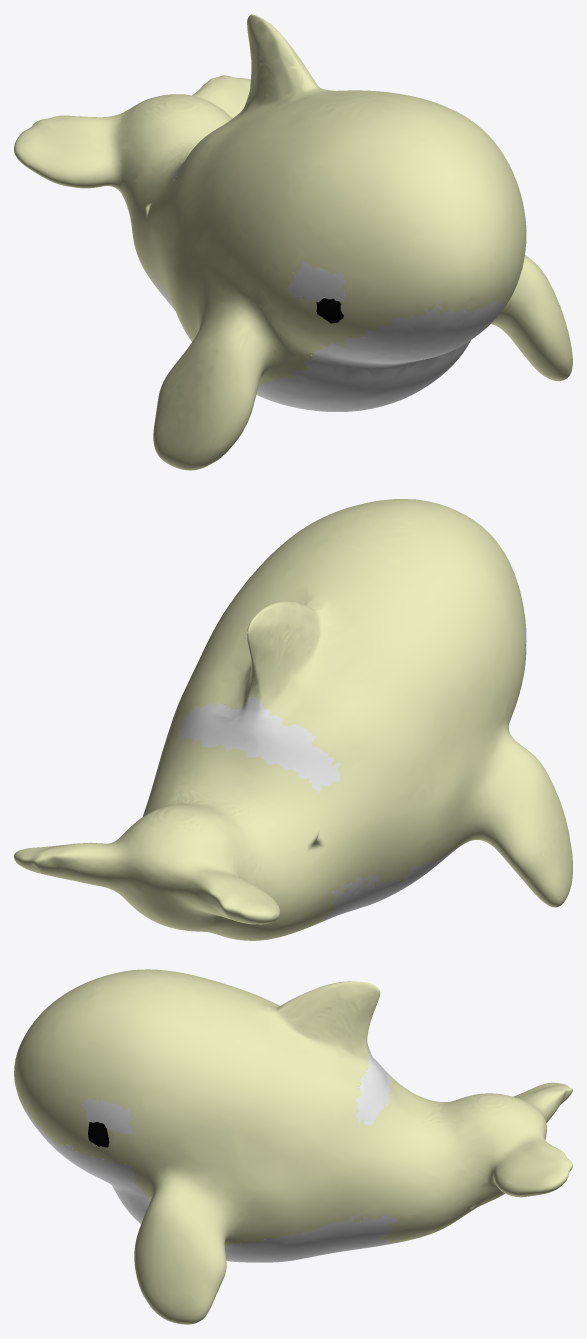
File: shiro-syati.glb
3 renders of one model, top to bottom at view 1: azimuth 30°, elevation 25°; view 2: azimuth 150°, elevation 25°; view 3: azimuth 270°, elevation 25°, orthographic. The views are drawn at different scales.
Parts seen in each view (by area): view 1: Mesh_0; view 2: Mesh_0; view 3: Mesh_0.
Part boxes in pixels (x1,y1,x2,y2): Mesh_0: (14,14,572,470); Mesh_0: (14,499,572,940); Mesh_0: (14,969,572,1324).
Bounding box in the file's own units: 1.38 × 1.06 × 2.01.
